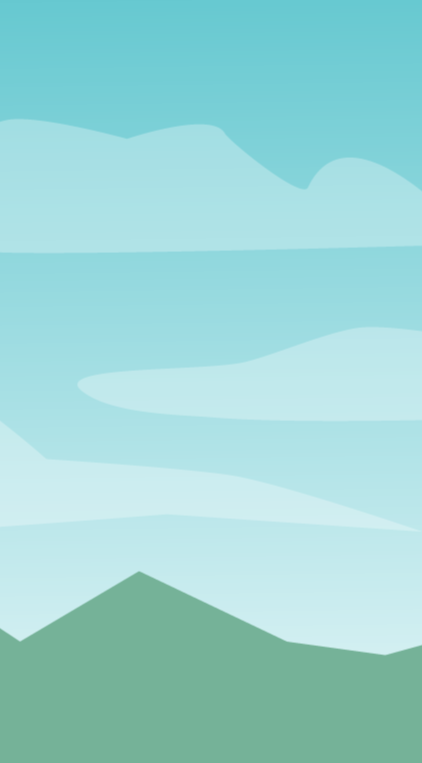character: (194, 245, 224, 284)
ground_dead: (1, 689, 421, 763)
ground_move: (1, 78, 161, 113), (276, 159, 422, 196), (133, 291, 274, 305)
window: (1, 1, 422, 763)
